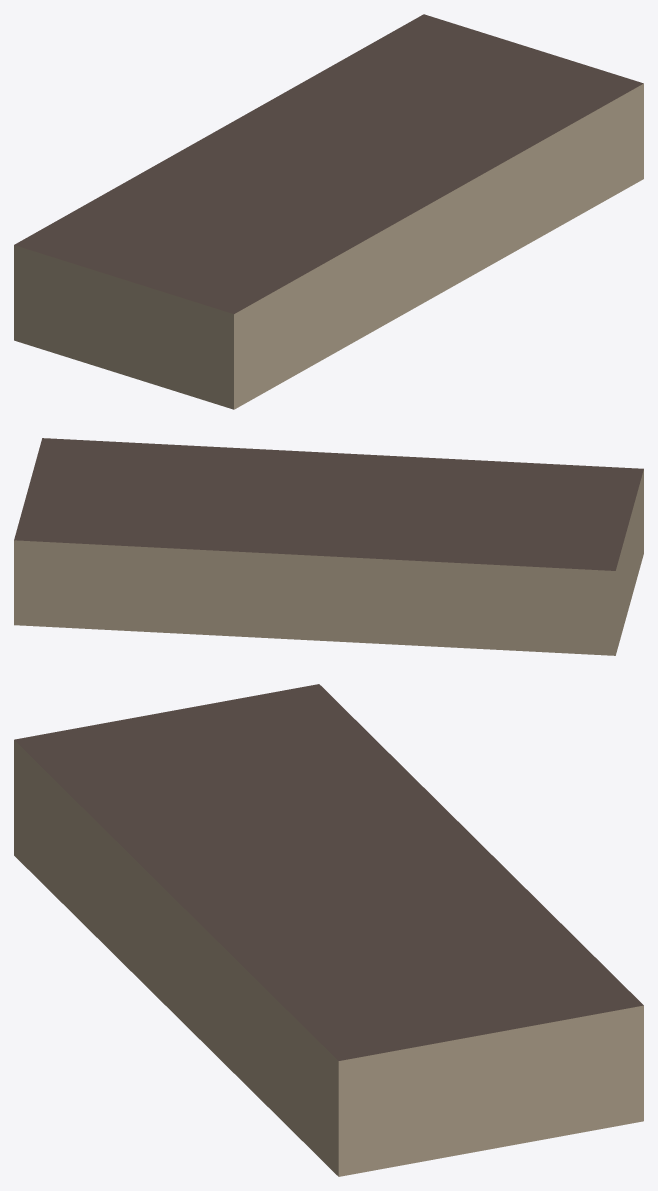
3 views of the same model, one above another, from view 1: azimuth 30°, elevation 25°; view 2: azimuth 150°, elevation 25°; view 3: azimuth 270°, elevation 25° (orthographic). The views are drawn at different scales.
Visible parts, largest first — view 1: HP-w373833537; view 2: HP-w373833537; view 3: HP-w373833537.
Part boxes in pixels (left/top/right/bottom): HP-w373833537: left=14, top=14, right=643, bottom=409; HP-w373833537: left=14, top=438, right=643, bottom=655; HP-w373833537: left=14, top=684, right=643, bottom=1176.
Bounding box in the file's own units: 41.91 × 6 × 29.58.
